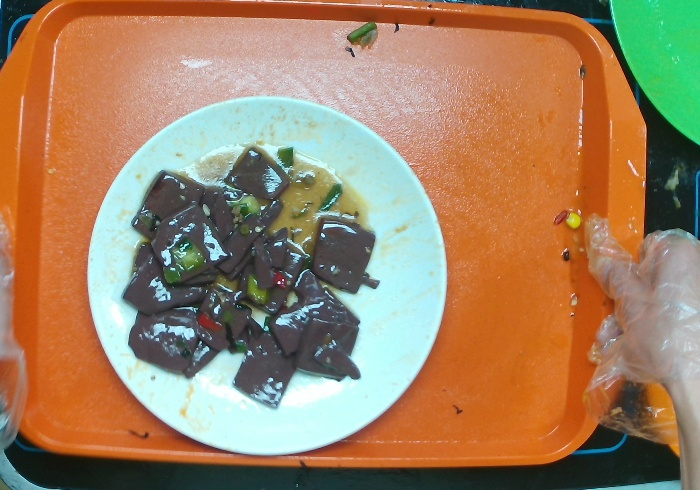HZYJPL-Bai_Se_Yuan_Pan: (79, 90, 452, 459)
